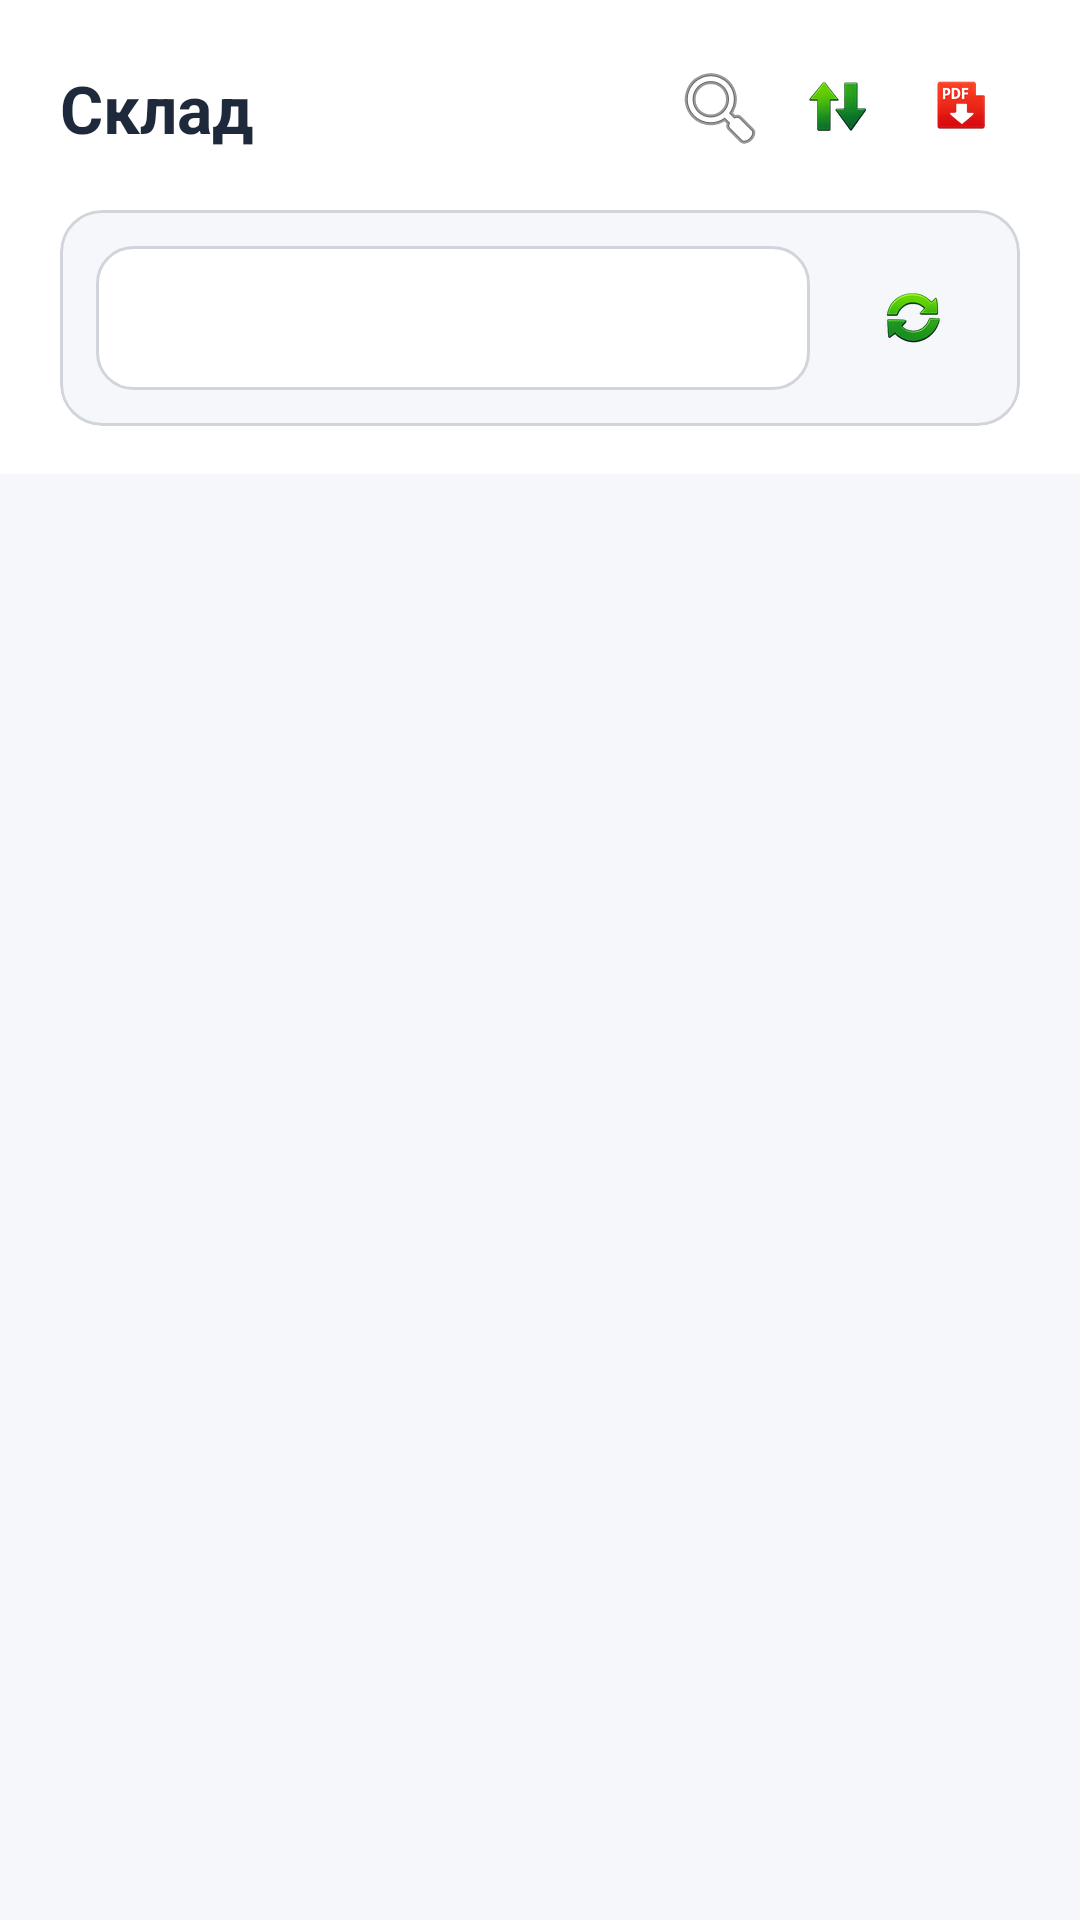

Screen size 1080×1920. Icon name, then its center in pixels as (x,y):
Обновить остатки: (913,318)
Поиск: (720,108)
Экспорт PDF: (961,105)
